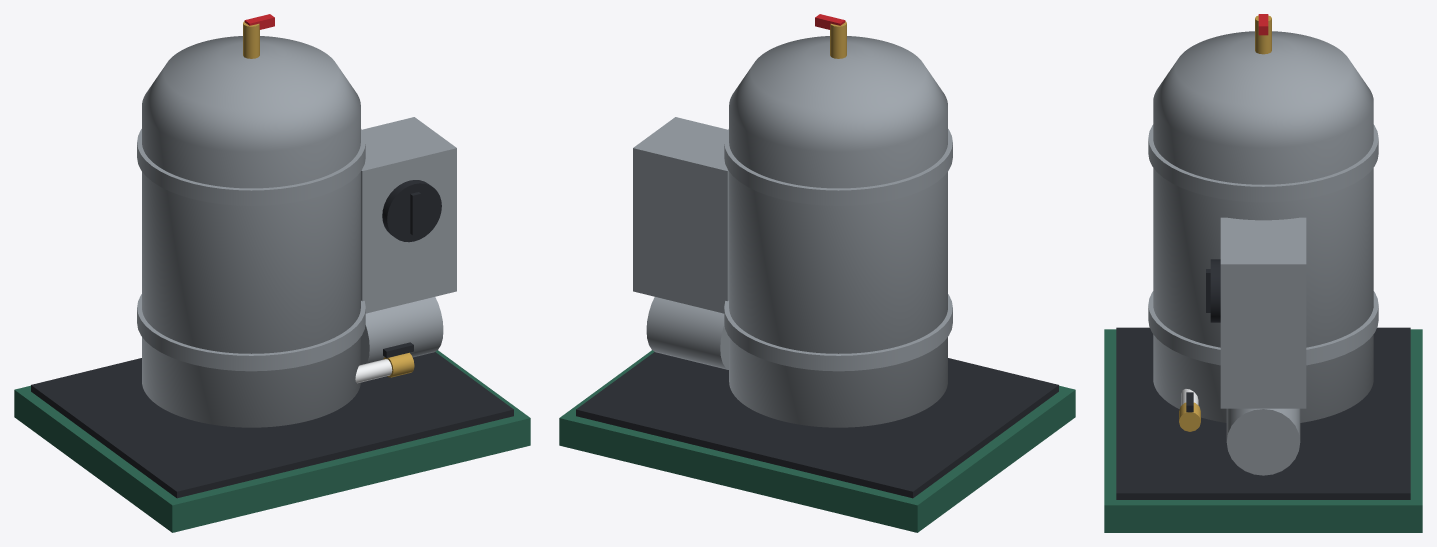
3 views of the same model, side by side, from view 1: azimuth 30°, elevation 25°; view 2: azimuth 150°, elevation 25°; view 3: azimuth 270°, elevation 25° (orthographic).
Parts seen in each view (by area): view 1: SU-ST; view 2: SU-ST; view 3: SU-ST.
Boxes of the visible parts, box(x1,y1,x2,y2) form: SU-ST: box(14, 14, 530, 532); SU-ST: box(559, 14, 1075, 532); SU-ST: box(1104, 14, 1422, 532).
Size of the model in its own units: 0.34 by 0.377 by 0.26.
